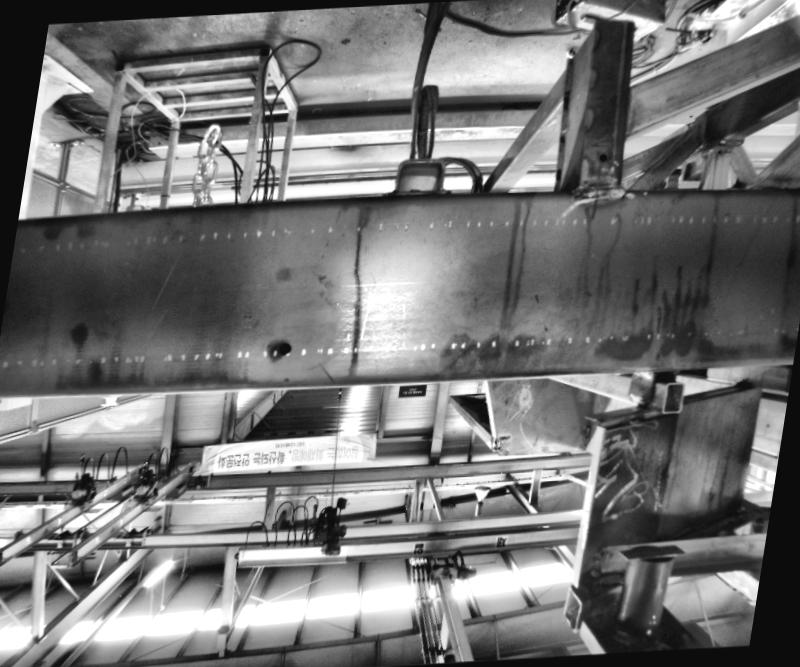bracket: (378, 156, 459, 202)
hole: (280, 343, 292, 355), (596, 152, 607, 162)
welding: (571, 178, 623, 200)
